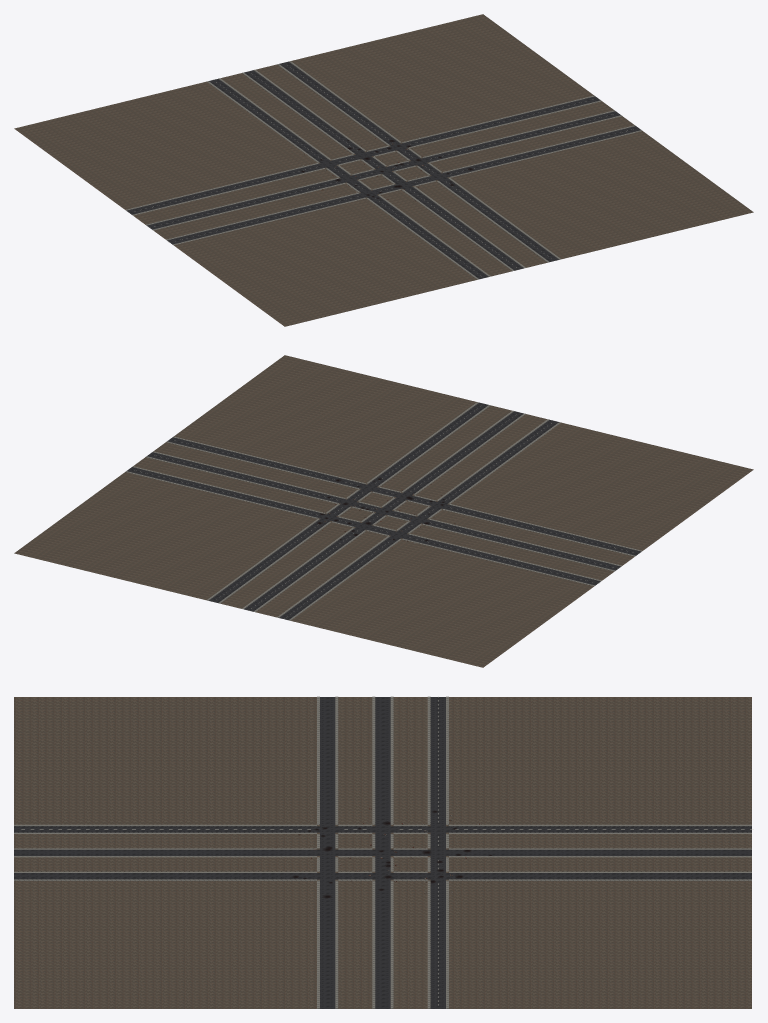
The model's file is ground.glb.
3 views of the same model, one above another, from view 1: azimuth 30°, elevation 25°; view 2: azimuth 150°, elevation 25°; view 3: azimuth 270°, elevation 25° (orthographic). The views are drawn at different scales.
Parts seen in each view (by area): view 1: ground; view 2: ground; view 3: ground.
Part boxes in pixels (bbox=[...]): ground: bbox=[14, 14, 753, 326]; ground: bbox=[14, 355, 753, 667]; ground: bbox=[14, 696, 753, 1008].
Bounding box in the file's own units: 481 × 0.8288 × 481.
6 materials, 5 textured.
